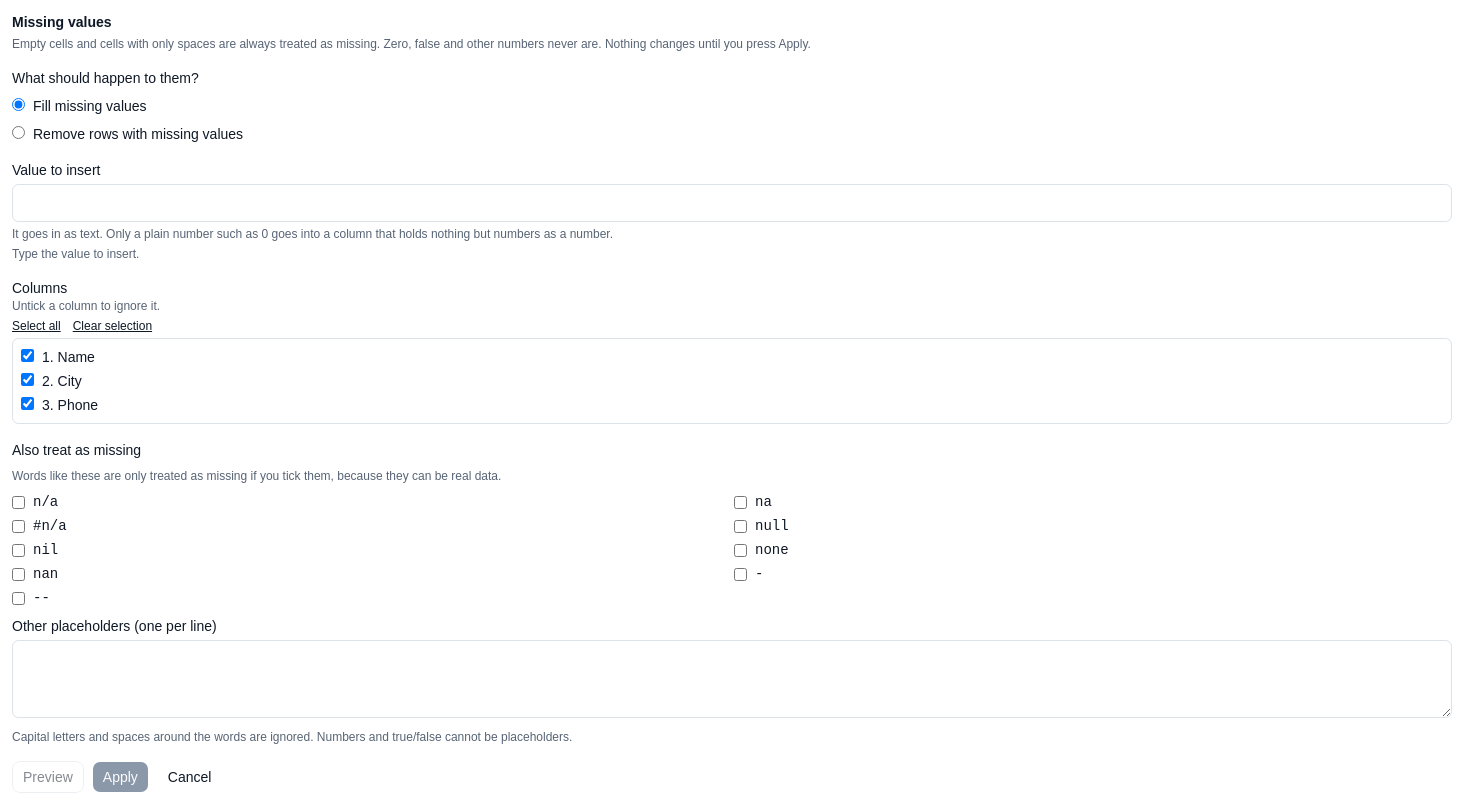
Test: MissingPanel: preview › shows an error when the preview cannot be built
Type "x" into the field labelled "Value to insert".
click(732, 203); type("x")  # box [12,184,1452,222]
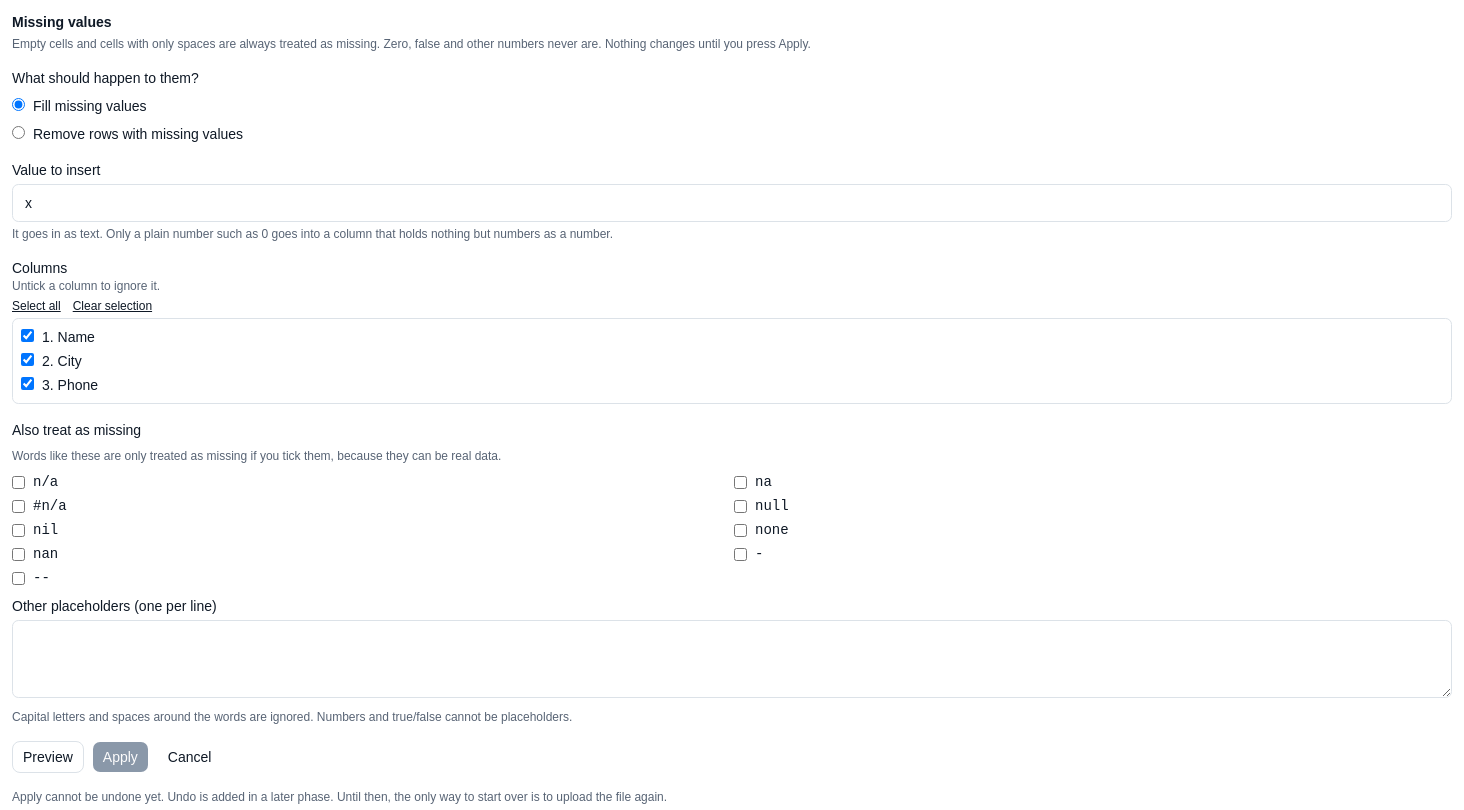
Click the button "Preview".
click(48, 757)  # box [12,741,84,773]
(page scrolled)
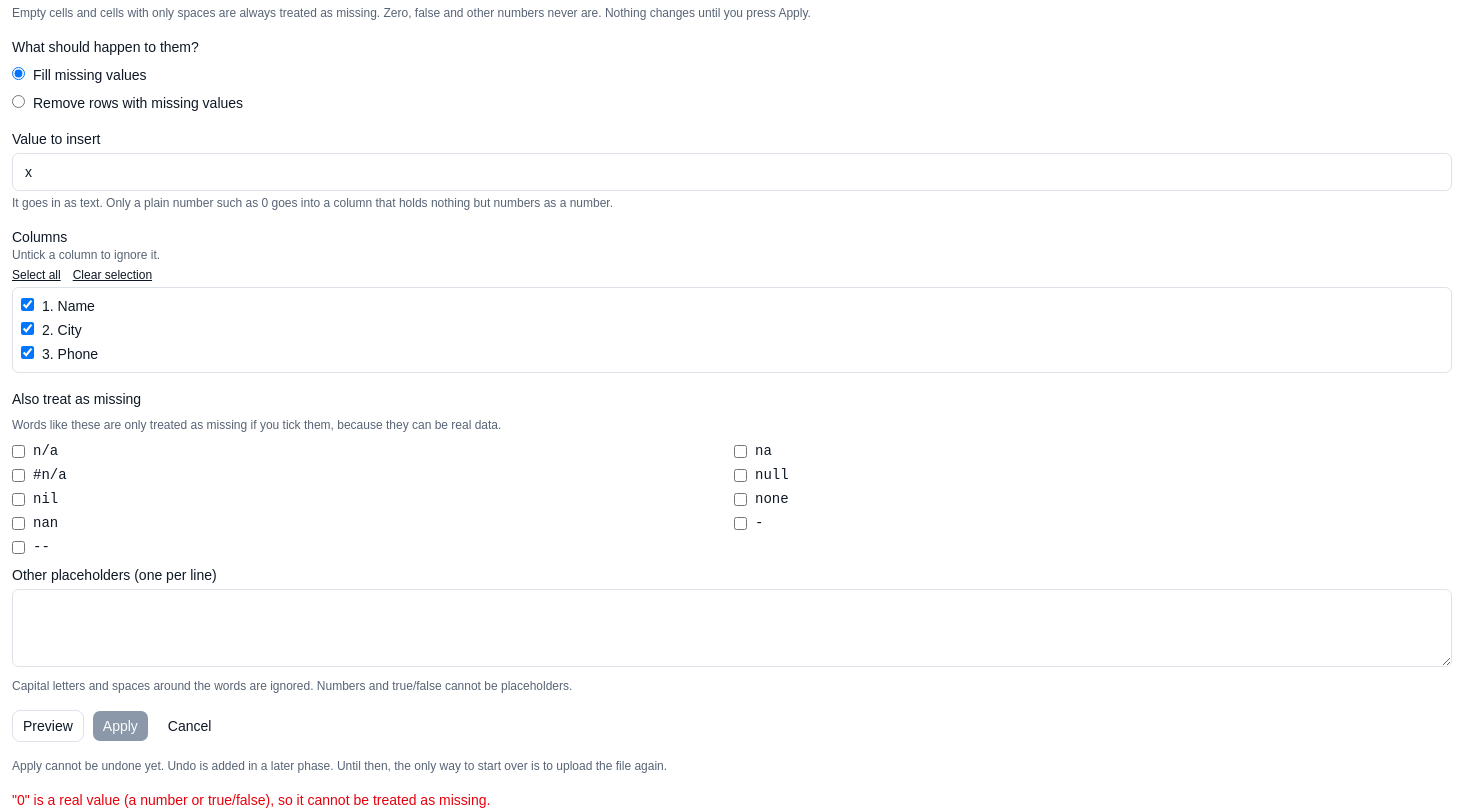
Expected: the message shows "is a real value", [12,792,490,808]
